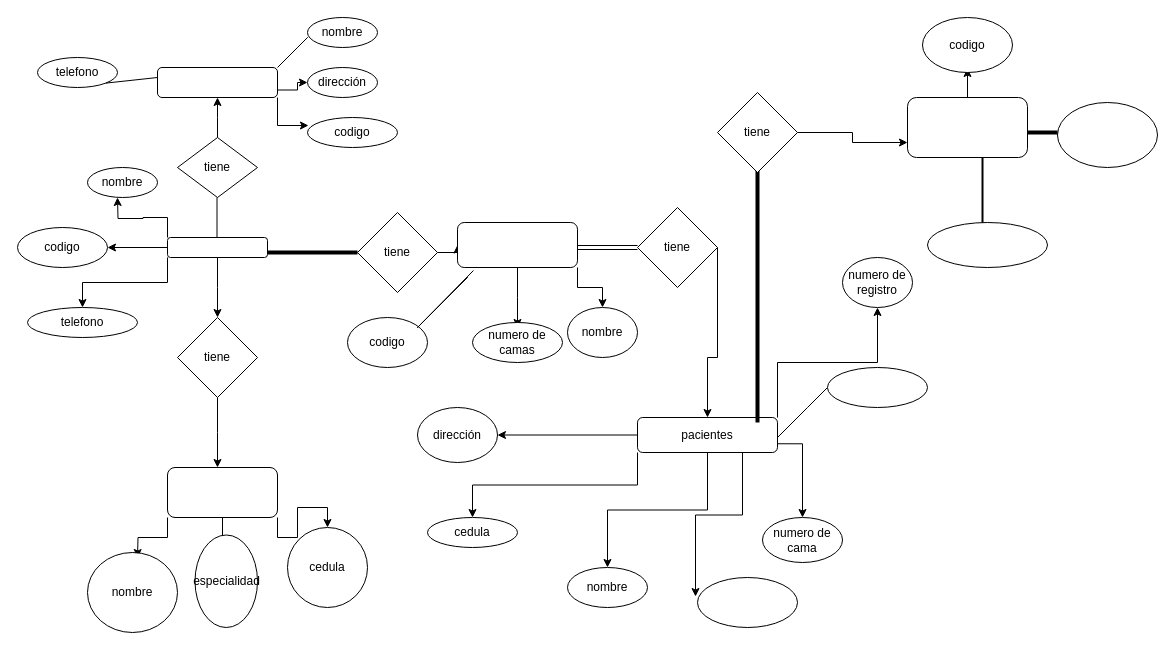
This 1175x650 diagram has some shape labels left out. Each missing label, with the centre of its shape:
"complicación" belongs at (1107,135).
"diagnosticos" belongs at (967,127).
"fecha nacimiento" belongs at (877,387).
"hospital" belongs at (217,247).
"laboratorio" belongs at (217,82).
"medicos" belongs at (222,492).
"salas" belongs at (517,245).
"sexo" belongs at (747,602).
"tipo de diagnosticos" belongs at (987,245).
